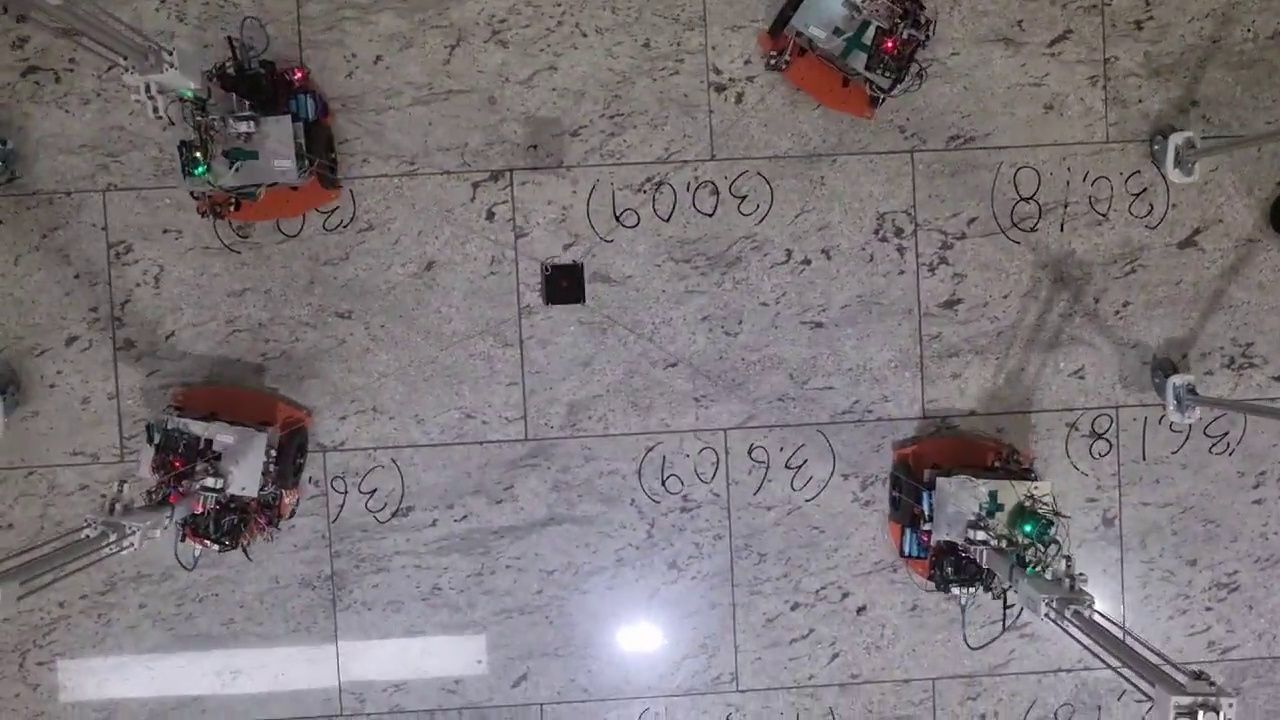e0: (539, 261, 585, 305)
r1: (888, 457, 1039, 536)
r2: (784, 3, 900, 87)
r3: (184, 123, 339, 202)
r4: (142, 408, 311, 490)
y_+_axis_vector: (725, 407, 1117, 429)
y_-_axis_vector: (324, 429, 726, 451)
